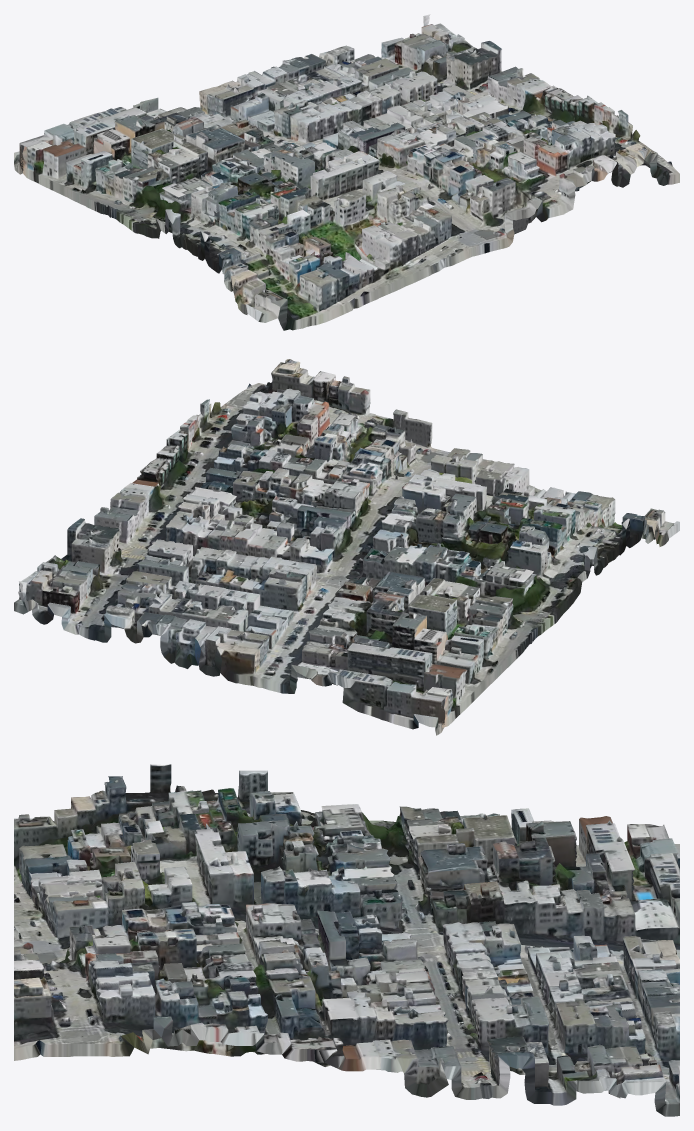
File: z17-20969-50650-h0-yup-uvflip-v3-world.glb
The picture shows the model from 3 angles, top to bottom: view 1: azimuth 30°, elevation 25°; view 2: azimuth 150°, elevation 25°; view 3: azimuth 270°, elevation 25°; orthographic projection. The views are drawn at different scales.
Bounding box in the file's own units: 241 × 56.96 × 243.
1 material, 1 textured.
